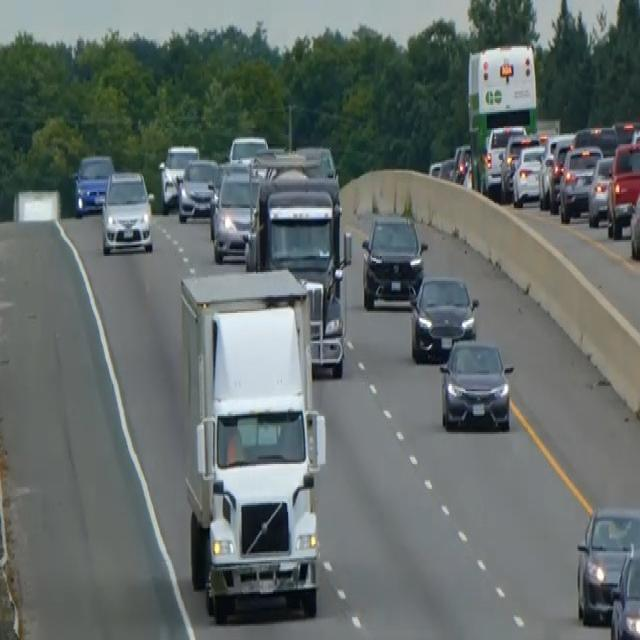car: (575, 503, 639, 626), (438, 336, 514, 432), (360, 212, 426, 310), (408, 272, 479, 363), (210, 166, 262, 262), (100, 167, 154, 254), (558, 142, 602, 222), (605, 139, 639, 238), (482, 123, 525, 192), (157, 142, 199, 212), (609, 544, 639, 638), (177, 156, 218, 222), (73, 151, 114, 217), (499, 132, 537, 199), (511, 142, 546, 206), (547, 137, 574, 211), (587, 153, 614, 226), (251, 148, 307, 180), (295, 142, 338, 183), (572, 123, 618, 158), (228, 133, 268, 162), (451, 142, 472, 183), (629, 178, 639, 260), (428, 156, 455, 180)
lorry: (177, 265, 326, 622)
